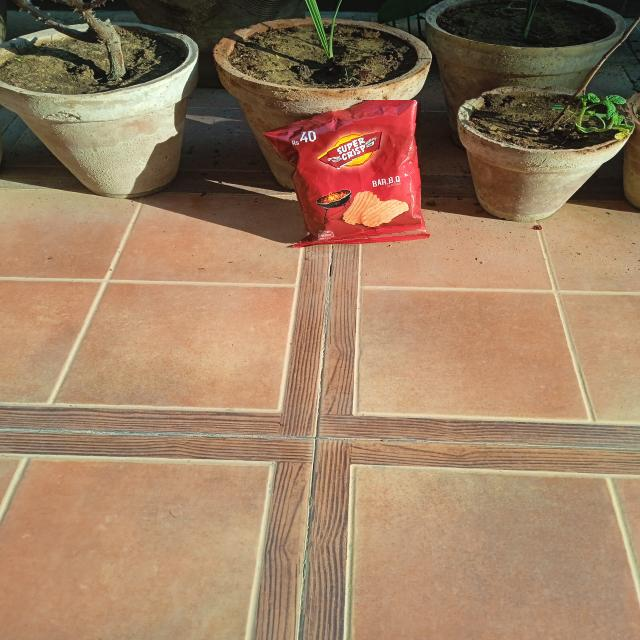Plastic: (281, 100, 421, 245)
